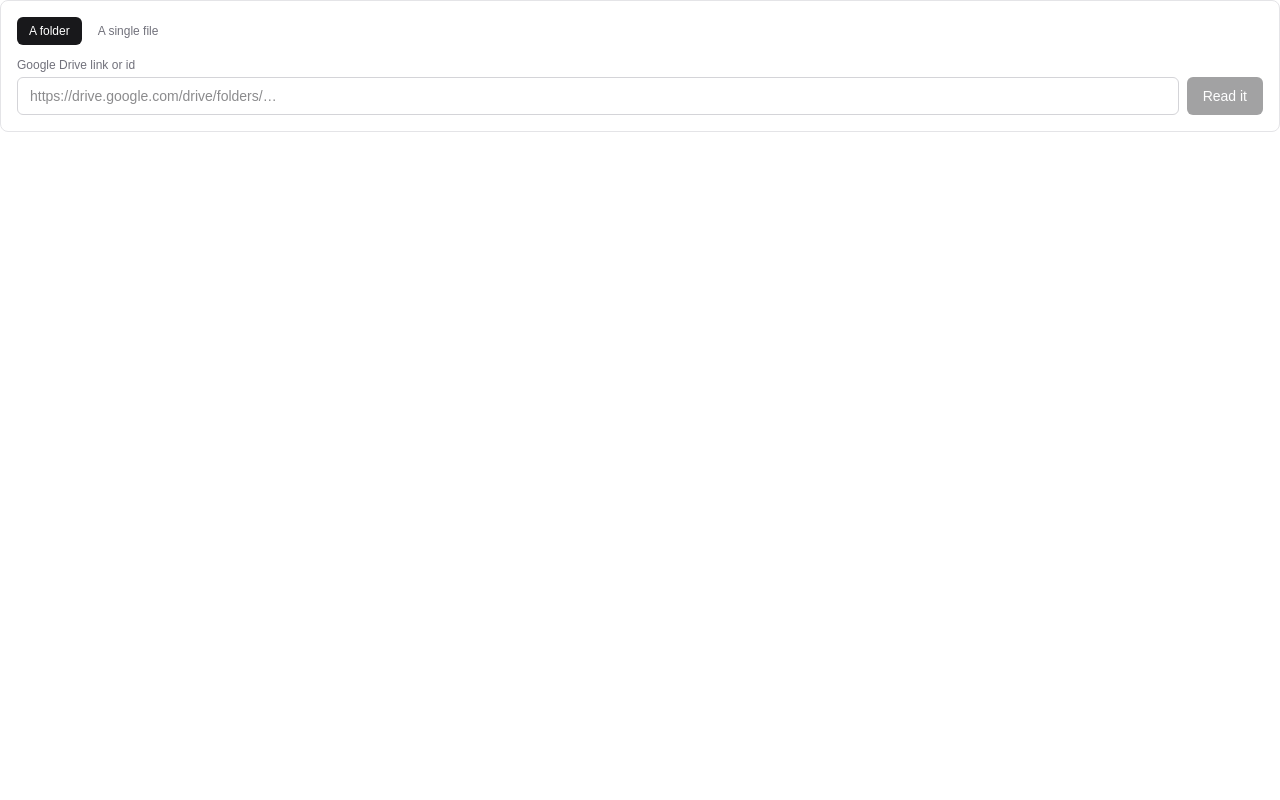
Test: ImportPlanner — the hierarchy, stated out loud › asks what she pointed at, then only the rungs above it
This screenshot has width=1280, height=800.
Step 1. Type "https://drive.google.com/drive/folders/abc123" into the field labelled "Google Drive link or id" → (598, 96), box top-left (17, 77), bottom-right (1179, 115)
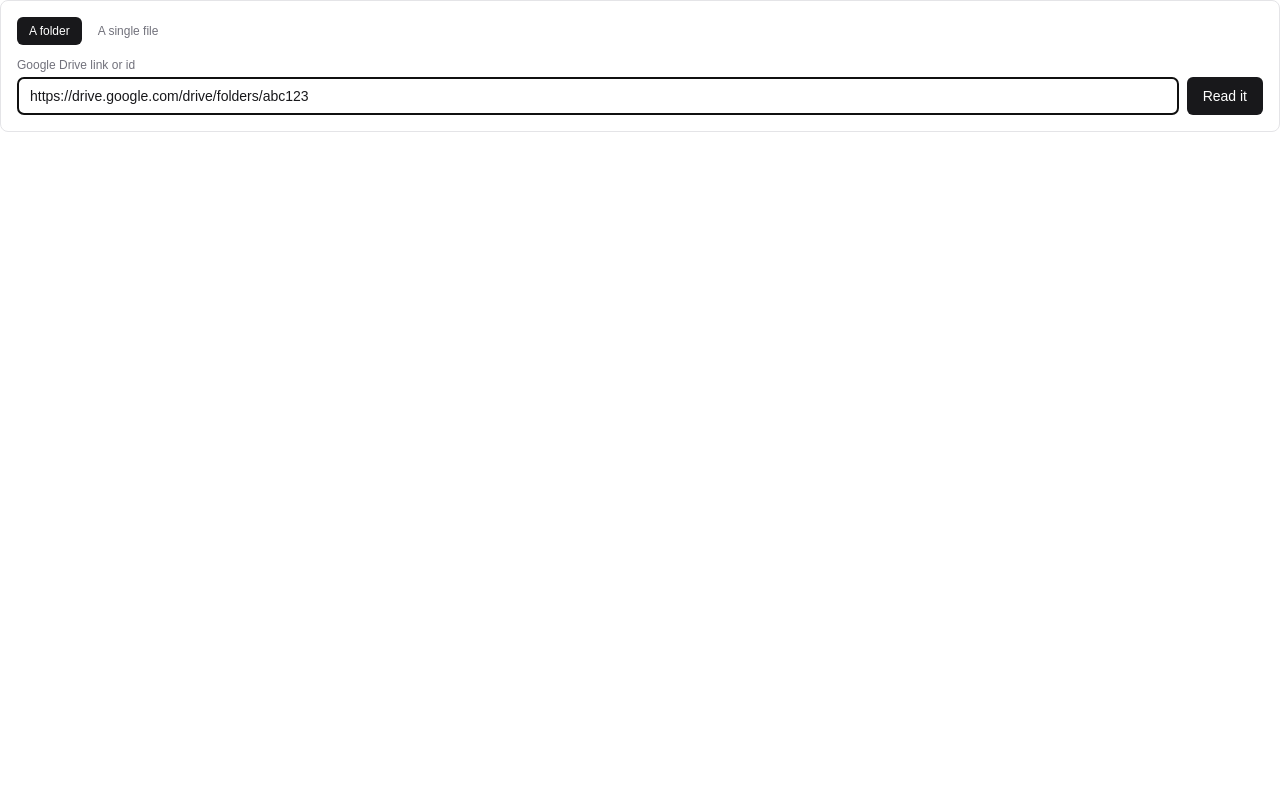
Step 2. Click the button "Read it" → (1225, 96), box top-left (1187, 77), bottom-right (1263, 115)
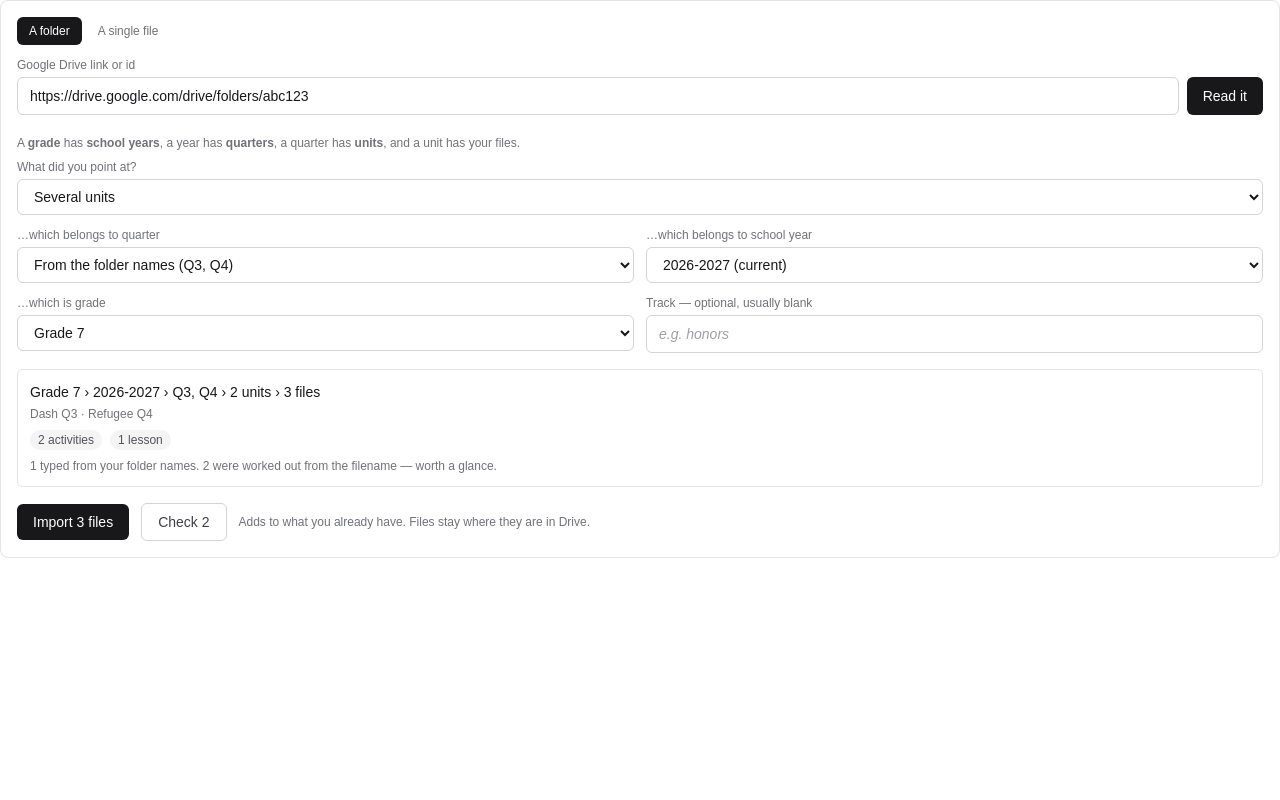
Check: the dropdown labelled "What did you point at?" is shown
Check: the dropdown labelled "What did you point at?" shows "Several units"
Check: the dropdown labelled "…which belongs to quarter" is shown, box top-left (17, 247), bottom-right (634, 283)
Step 3. Select "One school year (holding quarters)" in the dropdown labelled "What did you point at?" → (640, 197), box top-left (17, 179), bottom-right (1263, 215)
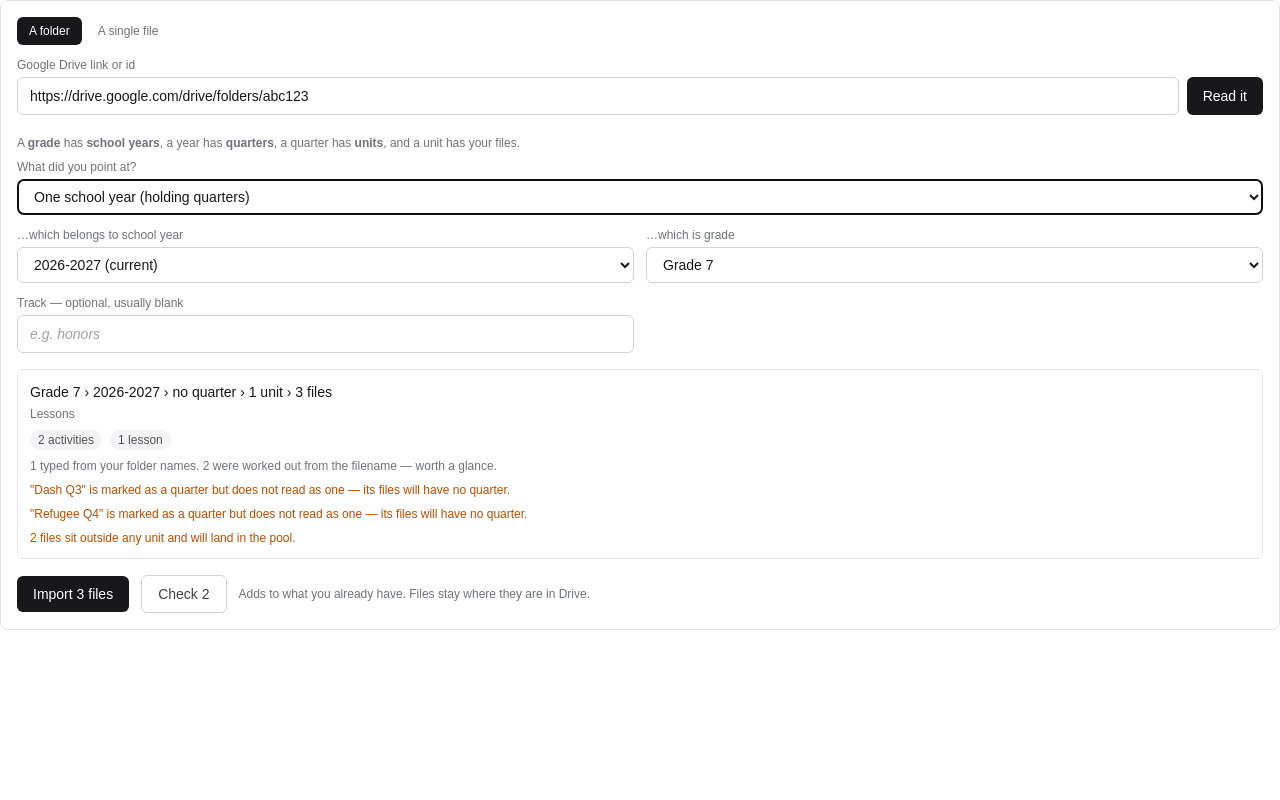
Check: the dropdown labelled "…which belongs to school year" is shown, box top-left (17, 247), bottom-right (634, 283)
Check: the dropdown labelled "…which is grade" is shown, box top-left (646, 247), bottom-right (1263, 283)
Check: the label labelled "belongs to quarter" is gone
